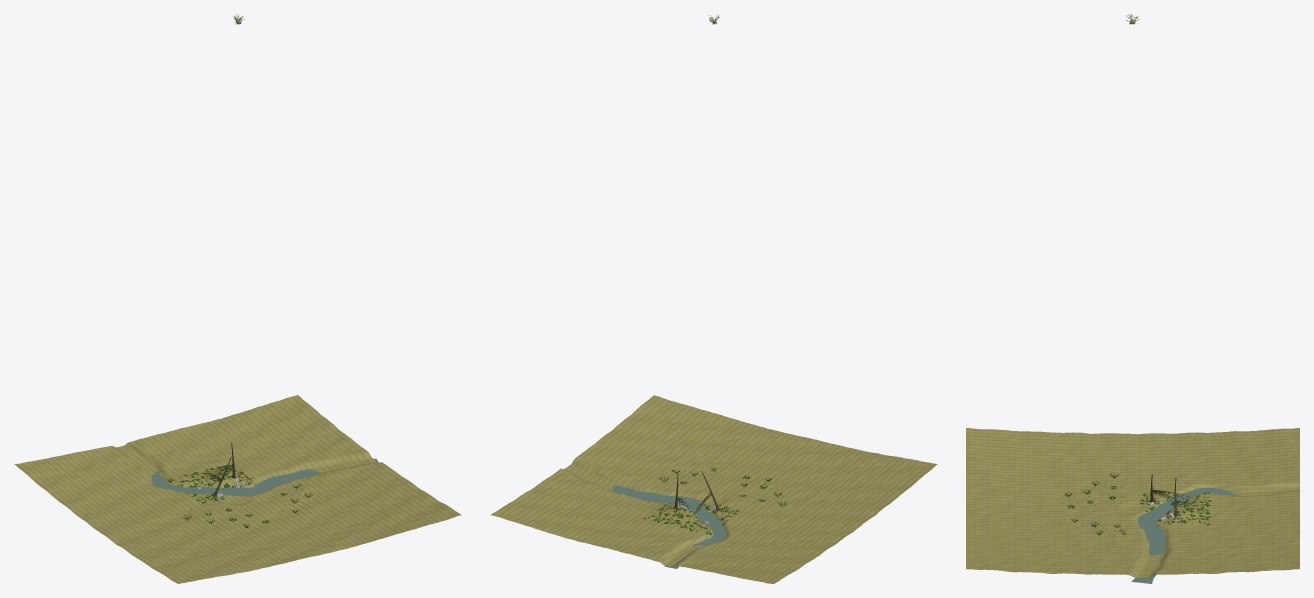
File: creek-garden-v10.glb
The picture shows the model from 3 angles, left to right: view 1: azimuth 30°, elevation 25°; view 2: azimuth 150°, elevation 25°; view 3: azimuth 270°, elevation 25°; orthographic projection.
Parts seen in each view (by area): view 1: terrain, creek_surface, bank_moss; view 2: terrain, creek_surface, bank_moss; view 3: terrain, creek_surface, bank_moss.
Part boxes in pixels (left/top/right/bottom): terrain: left=14, top=395, right=460, bottom=583; creek_surface: left=151, top=458, right=378, bottom=495; bank_moss: left=168, top=463, right=255, bottom=503; terrain: left=491, top=395, right=937, bottom=583; creek_surface: left=611, top=485, right=725, bottom=568; bank_moss: left=643, top=502, right=738, bottom=535; terrain: left=966, top=428, right=1299, bottom=577; creek_surface: left=1131, top=487, right=1237, bottom=583; bank_moss: left=1140, top=492, right=1211, bottom=525.
Size of the model in its own units: 57.14 by 91.96 by 56.
Materials: 11 (5 with a texture image).
